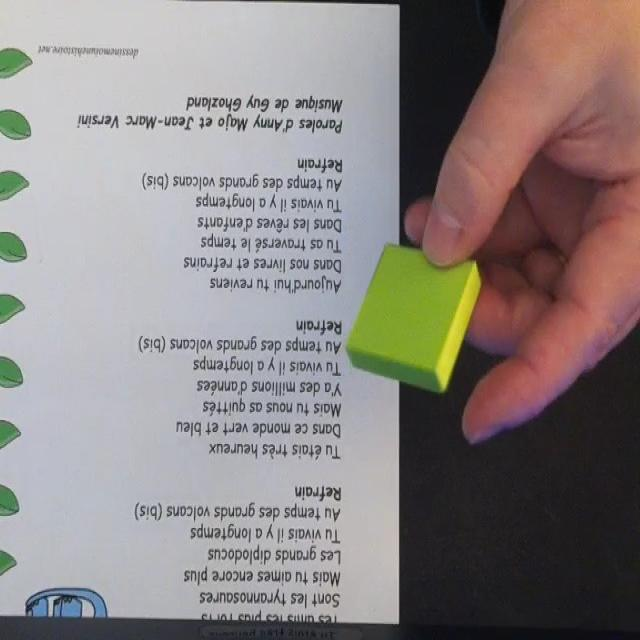square: (346, 242, 481, 394)
